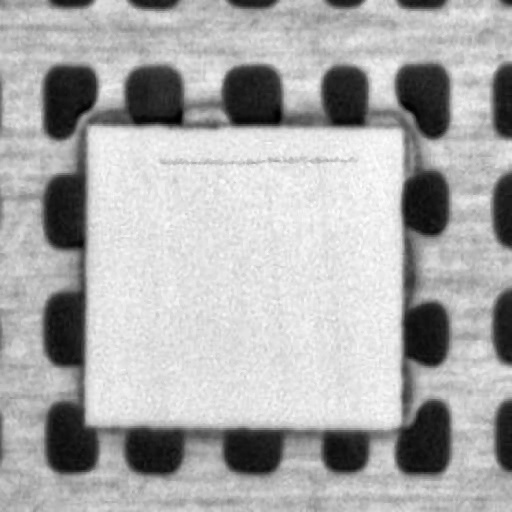DIE_CRACK: (211, 119, 472, 121)
